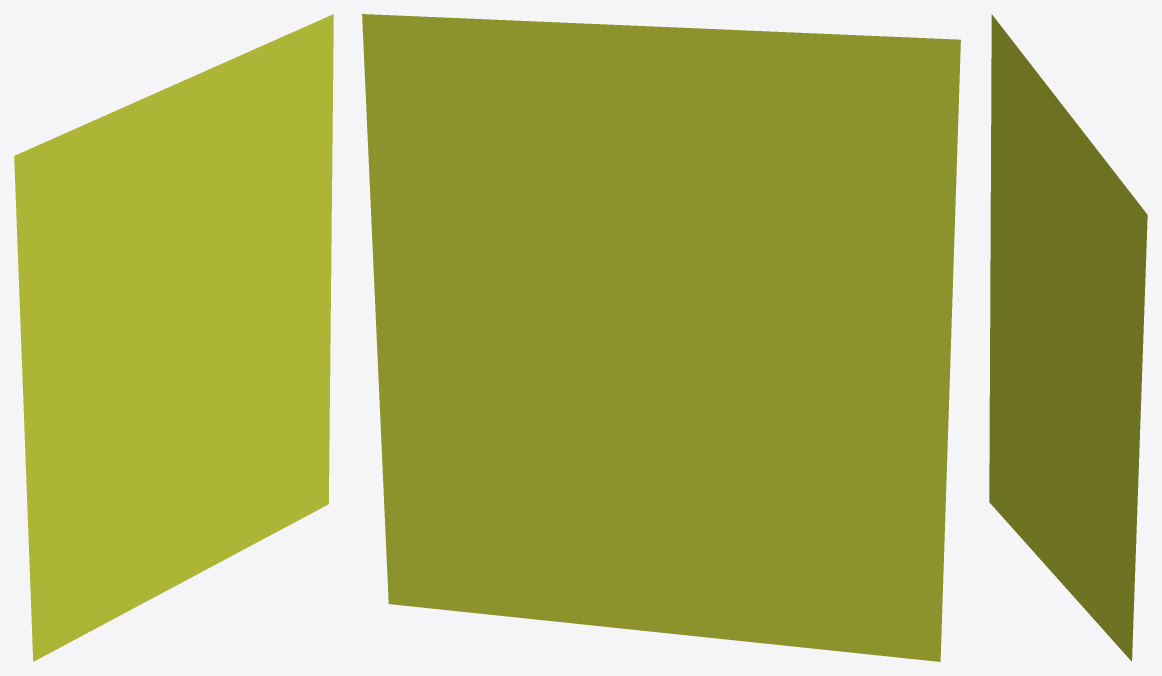
Rendered from b_polySurface686_b_BMW_i8Elite_2017CalliperGloss_Material1_0.glb.
The picture shows the model from 3 angles, left to right: view 1: azimuth 30°, elevation 25°; view 2: azimuth 150°, elevation 25°; view 3: azimuth 270°, elevation 25°; orthographic projection. The views are drawn at different scales.
Visible parts, largest first — view 1: b:polySurface686_b:BMW_i8Elite_2017CalliperGloss_Material1_0; view 2: b:polySurface686_b:BMW_i8Elite_2017CalliperGloss_Material1_0; view 3: b:polySurface686_b:BMW_i8Elite_2017CalliperGloss_Material1_0.
Boxes of the visible parts, left/top/right/bottom form: b:polySurface686_b:BMW_i8Elite_2017CalliperGloss_Material1_0: left=14, top=14, right=333, bottom=661; b:polySurface686_b:BMW_i8Elite_2017CalliperGloss_Material1_0: left=362, top=14, right=960, bottom=661; b:polySurface686_b:BMW_i8Elite_2017CalliperGloss_Material1_0: left=989, top=14, right=1147, bottom=661.
Bounding box in the file's own units: 0.00897 × 0.0109 × 0.00324.
